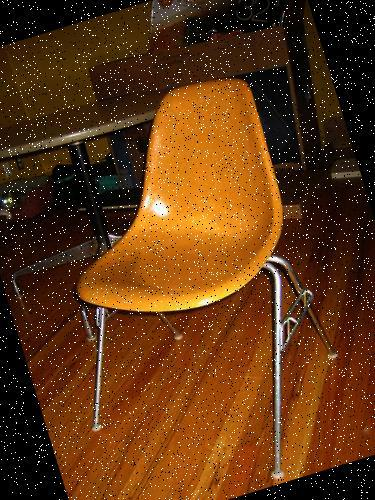Silla: (0, 65, 363, 499)
